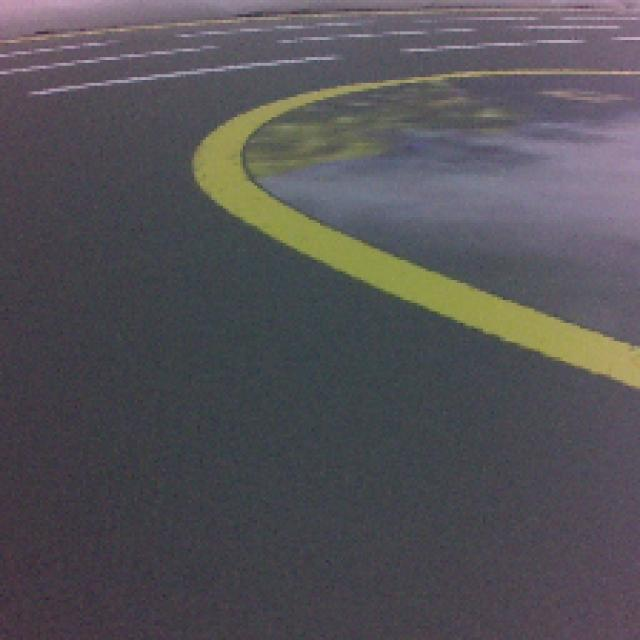Road: (3, 395, 640, 640)
